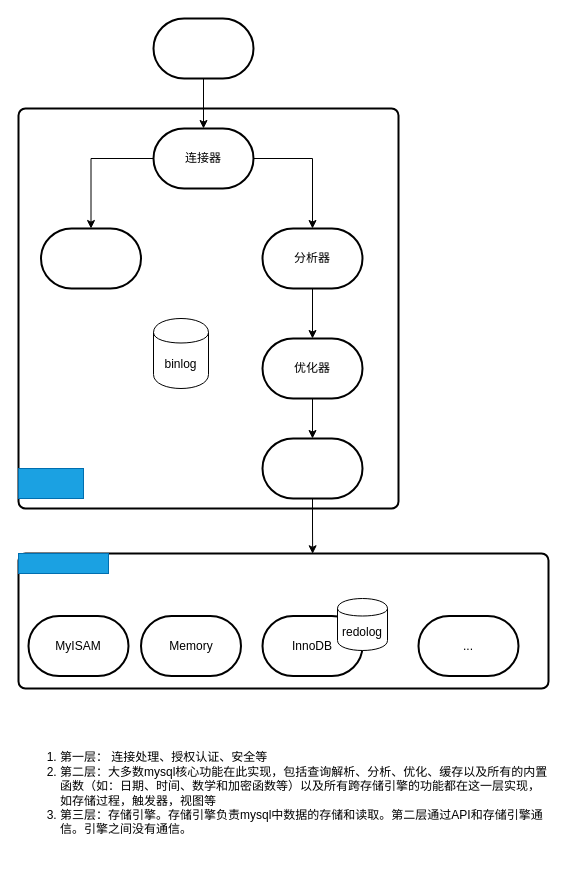
Some shapes in this 566 by 885 pixel diagram are drawn without their labels. Here are the shapes that lost their labels. From the top down, the centre of each, then its label:
the point at 203,48: 客户端
the point at 91,258: 查询缓存
the point at 51,483: server层
the point at 312,468: 执行器
the point at 63,563: 存储引擎层
